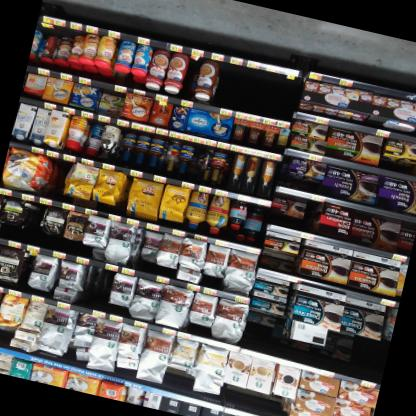empty_space: (93, 267, 117, 310), (238, 65, 262, 106), (219, 61, 243, 101), (277, 73, 300, 113), (258, 69, 281, 109)
